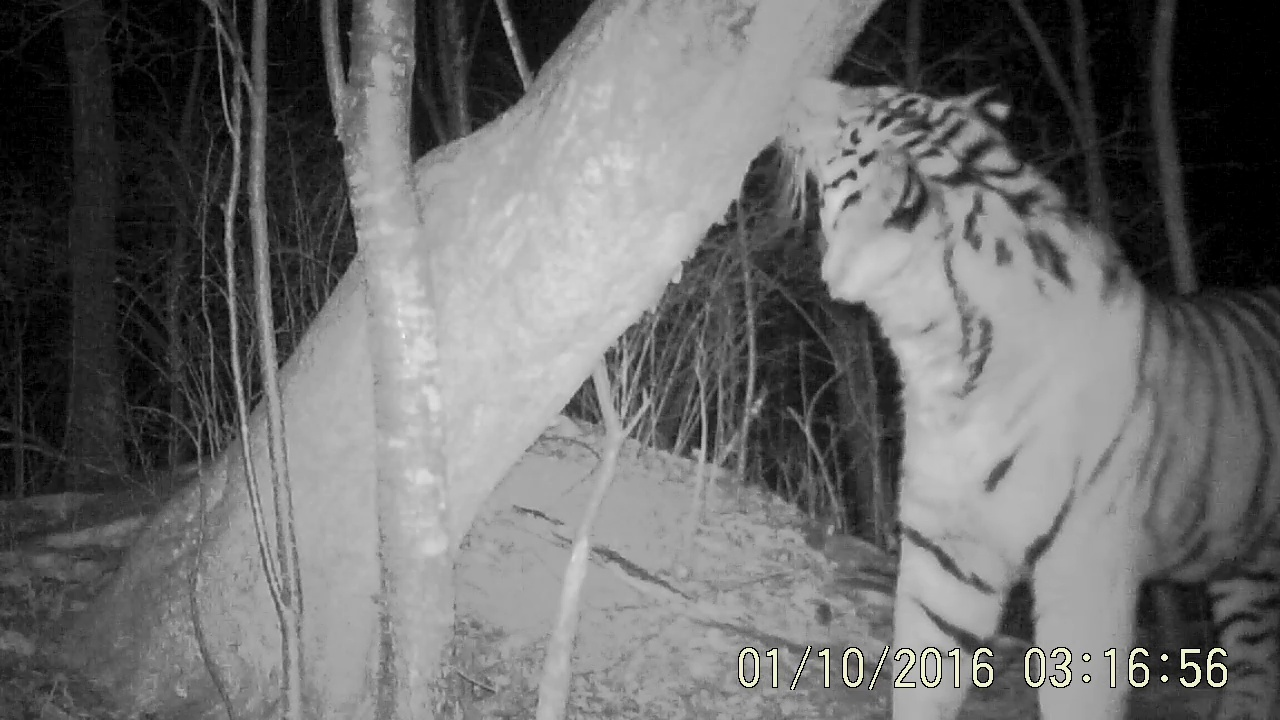Tiger: (748, 55, 1279, 640)
